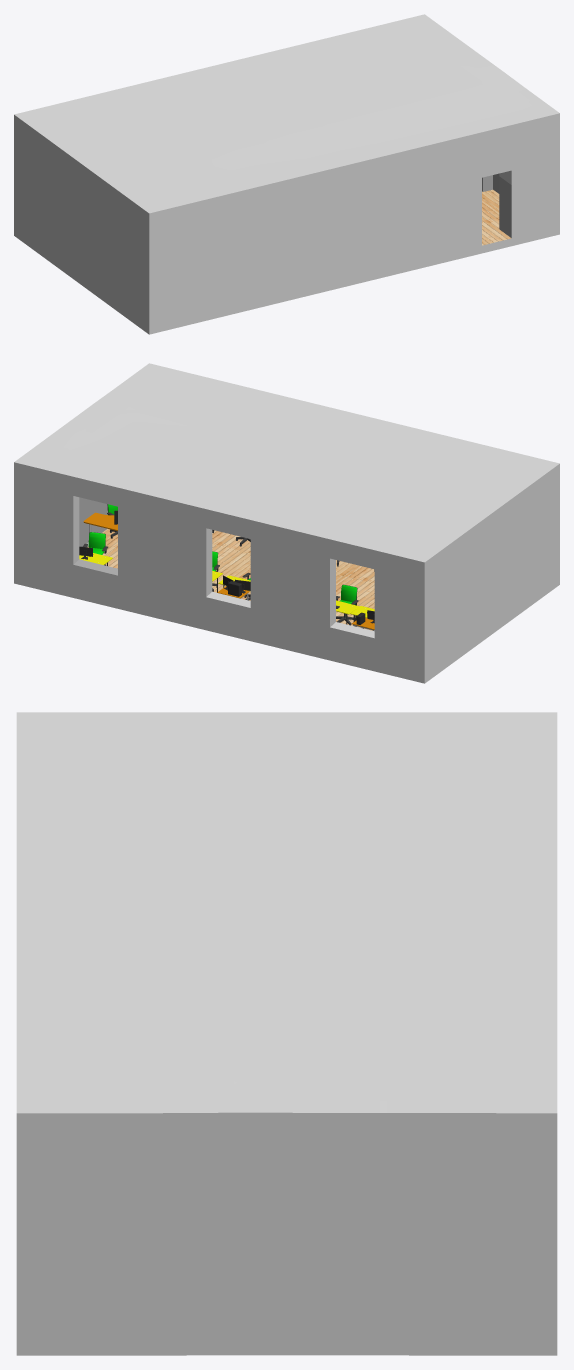
Rendered from School302.glb.
3 renders of one model, top to bottom at view 1: azimuth 30°, elevation 25°; view 2: azimuth 150°, elevation 25°; view 3: azimuth 270°, elevation 25°, orthographic. The views are drawn at different scales.
Parts seen in each view (by area): view 1: 302; view 2: 302, desk, green_chair.015; view 3: 302.
Boxes of the visible parts, x1,y1,x2,y2 form: 302: (14,14,559,334); 302: (14,363,559,683); desk: (83,512,117,546); green_chair.015: (336,584,358,625); 302: (16,712,557,1355).
Size of the model in its own units: 12.38 by 3.5 by 7.06.
14 materials, 1 textured.
